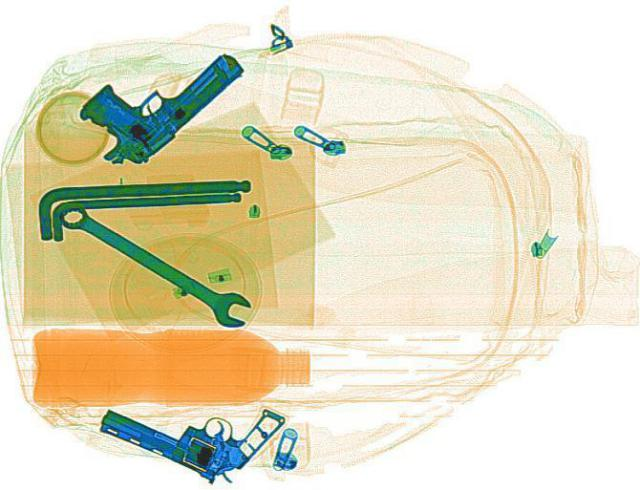Gun: (48, 21, 258, 174), (86, 355, 288, 486)
Wrench: (42, 194, 262, 330)
